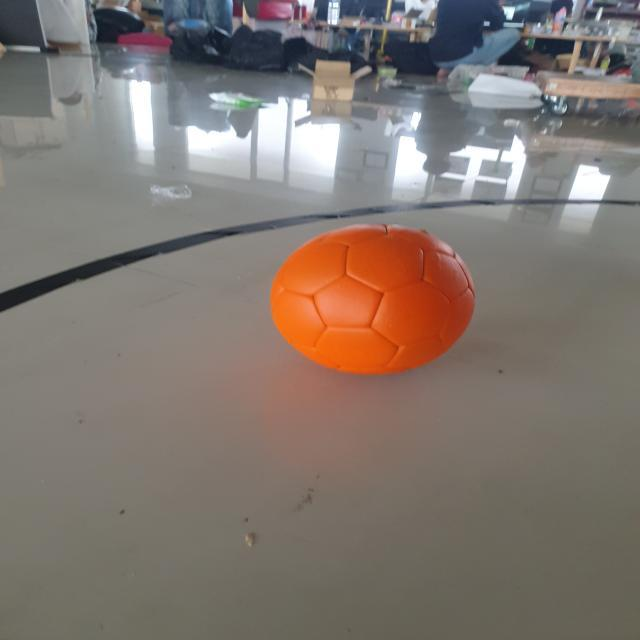bola: (274, 222, 490, 380)
